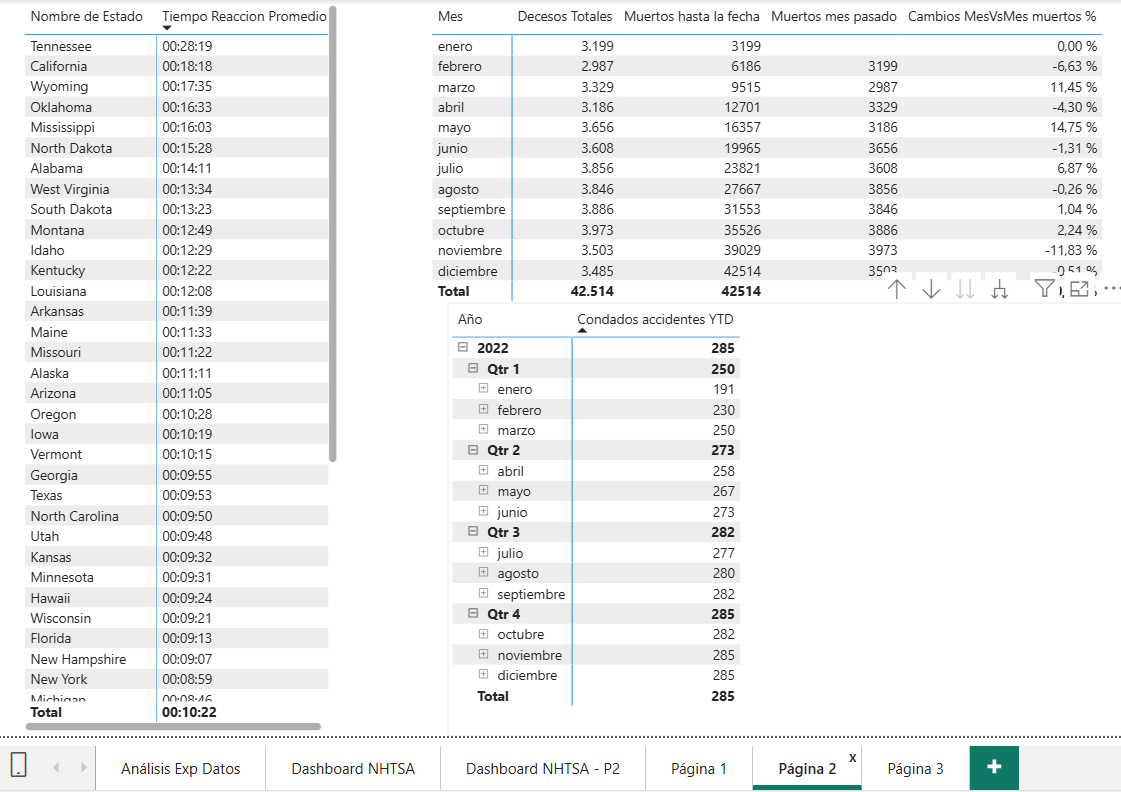

This screenshot's page, from the dashboard's own definition file:
{"tool":"powerbi","page":{"name":"Página 2","canvas":[1280,720],"ordinal":4},"visuals":[{"type":"pivotTable","fields":{"Rows":["Accidentes USA 2022.Nombre de Estado"],"Values":["Accidentes USA 2022.Tiempo Reaccion Promedio"]},"box":[49.4,0,315.6,720.4],"z":0},{"type":"pivotTable","fields":{"Rows":["Fecha.Date.Variación.Jerarquía de fechas.Mes"],"Values":["Accidentes USA 2022.Decesos Totales","Accidentes USA 2022.Muertos hasta la fecha","Accidentes USA 2022.Muertos mes pasado","Accidentes USA 2022.Cambios MesVsMes muertos %"]},"box":[447.3,0,703.9,315.6],"z":1000},{"type":"pivotTable","fields":{"Values":["Accidentes USA 2022.Condados accidentes YTD"],"Rows":["Fecha.Date.Variación.Jerarquía de fechas.Año","Fecha.Date.Variación.Jerarquía de fechas.Trimestre","Fecha.Date.Variación.Jerarquía de fechas.Mes","Fecha.Date.Variación.Jerarquía de fechas.Día"]},"box":[466.6,296.4,668.3,424],"z":2000}]}

Visuals, with their boxes on the page's 1280x720 design canvas (x1, y1, x2, y2). These are canvas units, not pixel positions in the 1121x792 screenshot, which may show the page scaled, cropped or inside an application window:
pivotTable - Accidentes USA 2022.Nombre de Estado x Accidentes USA 2022.Tiempo Reaccion Promedio: x1=49, y1=0, x2=365, y2=720
pivotTable - Fecha.Date.Variación.Jerarquía de fechas.Mes x Accidentes USA 2022.Decesos Totales: x1=447, y1=0, x2=1151, y2=316
pivotTable - Accidentes USA 2022.Condados accidentes YTD x Fecha.Date.Variación.Jerarquía de fechas.Año: x1=467, y1=296, x2=1135, y2=720
